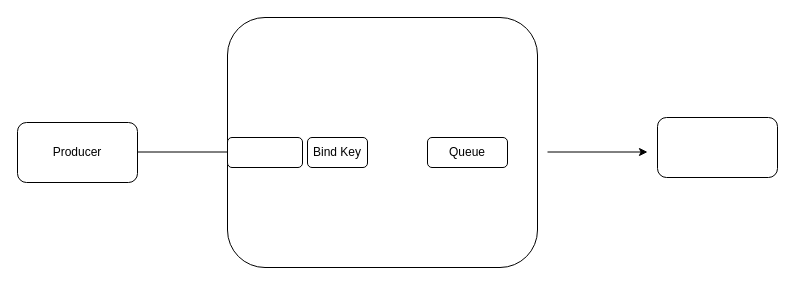
The diagram is 795 pixels wide and 285 high, and some of its shapes have lost their labels. The centre of each missing label's shape, as x and y in pixels:
Consumer: [717,147]
Exchange: [264,152]
